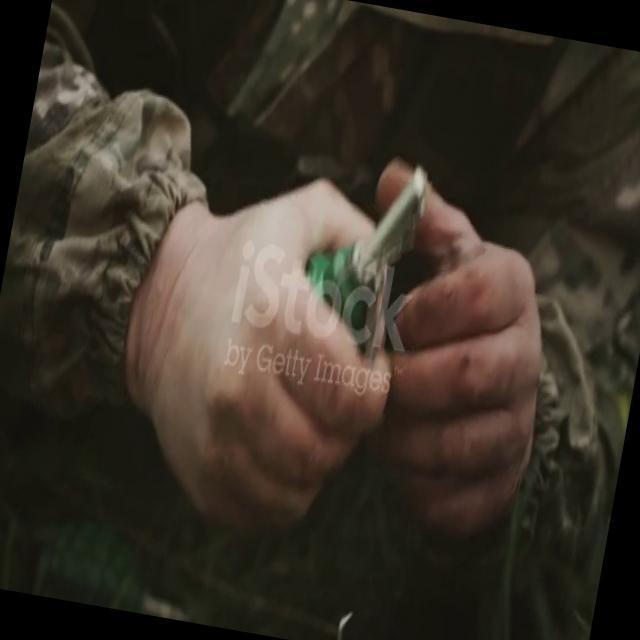grenade: (298, 150, 431, 364)
